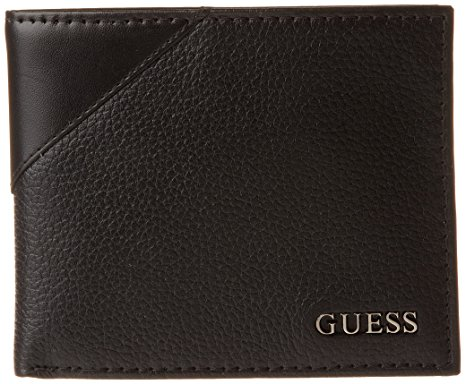monedero: (4, 2, 463, 380)
